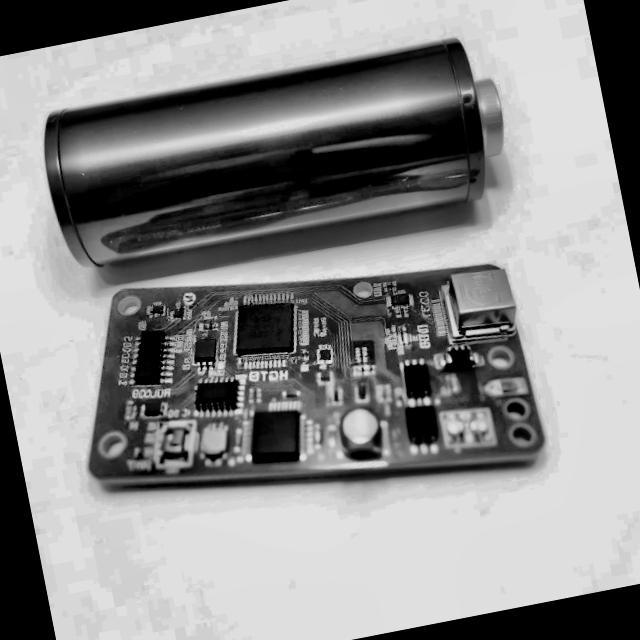Battery: (36, 29, 518, 278)
PCB: (57, 218, 554, 556)
